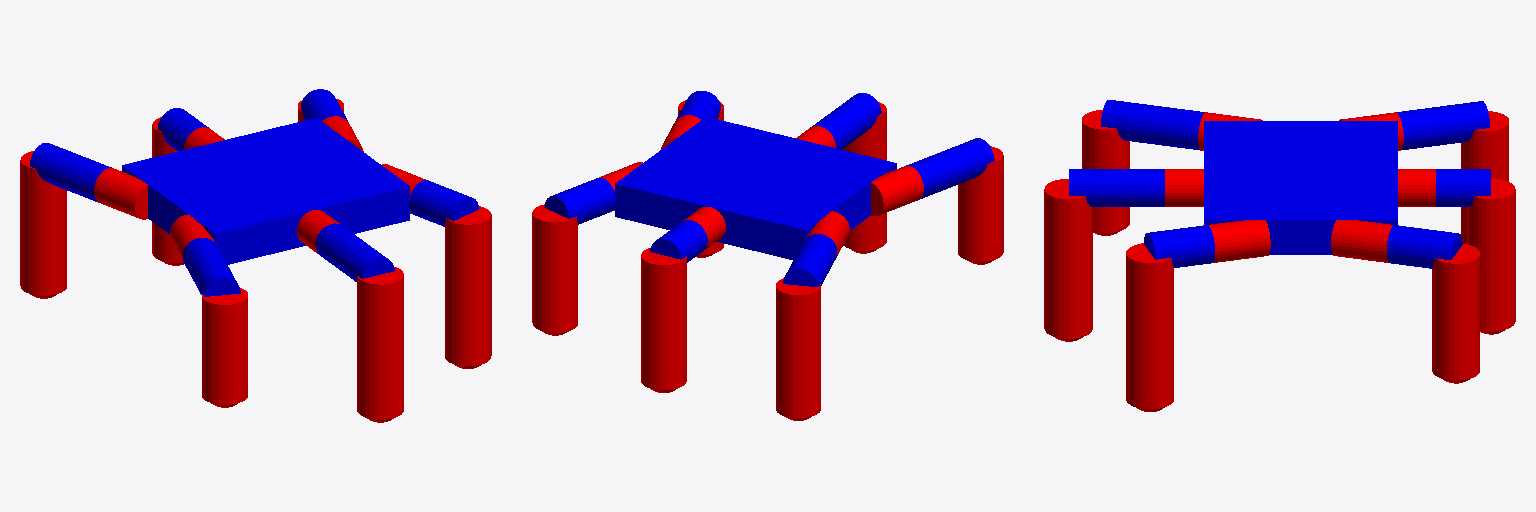
--- Render facts (derived) ---
The picture shows the robot from 3 angles, left to right: view 1: azimuth 30°, elevation 25°; view 2: azimuth 150°, elevation 25°; view 3: azimuth 270°, elevation 25°; orthographic projection.
Robot: pexod — 19 links, 18 joints (18 revolute); root link base_link; default pose: every joint at zero.
Visible links, largest first — view 1: base_link, leg_3_3, leg_4_3, leg_0_3, leg_5_3, leg_4_2, leg_0_2, leg_5_2, leg_3_2, leg_0_1, leg_1_3, leg_1_2 (+3 smaller); view 2: base_link, leg_1_3, leg_0_3, leg_2_3, leg_5_3, leg_5_2, leg_4_3, leg_2_2, leg_4_2, leg_0_2, leg_5_1, leg_1_2 (+3 smaller); view 3: base_link, leg_3_3, leg_4_3, leg_2_3, leg_1_3, leg_5_2, leg_4_2, leg_0_2, leg_5_3, leg_0_3, leg_2_2, leg_3_2 (+5 smaller).
Boxes of the visible links, <box> form: base_link: <box>122,118,409,264</box>; leg_3_3: <box>445,206,491,368</box>; leg_4_3: <box>357,267,403,422</box>; leg_0_3: <box>20,151,66,298</box>; leg_5_3: <box>202,288,247,407</box>; leg_4_2: <box>315,223,394,281</box>; leg_0_2: <box>30,143,111,202</box>; leg_5_2: <box>183,238,240,296</box>; leg_3_2: <box>409,180,478,226</box>; leg_0_1: <box>94,168,147,219</box>; leg_1_3: <box>152,117,183,265</box>; leg_1_2: <box>158,108,208,150</box>; base_link: <box>615,117,896,259</box>; leg_1_3: <box>641,248,686,392</box>; leg_0_3: <box>776,278,820,420</box>; leg_2_3: <box>532,204,577,335</box>; leg_5_3: <box>958,146,1003,264</box>; leg_5_2: <box>906,138,994,199</box>; leg_4_3: <box>842,102,886,253</box>; leg_2_2: <box>544,178,615,224</box>; leg_4_2: <box>810,93,881,149</box>; leg_0_2: <box>783,234,836,286</box>; leg_5_1: <box>871,166,923,215</box>; leg_1_2: <box>650,220,707,262</box>; base_link: <box>1204,121,1397,254</box>; leg_3_3: <box>1126,243,1173,411</box>; leg_4_3: <box>1044,179,1092,341</box>; leg_2_3: <box>1432,244,1479,383</box>; leg_1_3: <box>1467,179,1515,334</box>; leg_5_2: <box>1101,100,1204,150</box>; leg_4_2: <box>1069,169,1164,206</box>; leg_0_2: <box>1396,101,1489,149</box>; leg_5_3: <box>1082,110,1129,235</box>; leg_0_3: <box>1461,111,1508,243</box>; leg_2_2: <box>1387,225,1462,268</box>; leg_3_2: <box>1144,225,1214,267</box>.
Size in the robot's own frame: 0.377 by 0.4866 by 0.1992 metres.
Geometry: primitives only (box / cylinder / sphere), no mesh files.

The robot description file, URDF, robot "pexod":
<?xml version="1.0" ?>
<!-- =================================================================================== -->
<!-- |    This document was autogenerated by xacro from pexod.xacro                    | -->
<!-- |    EDITING THIS FILE BY HAND IS NOT RECOMMENDED                                 | -->
<!-- =================================================================================== -->
<robot name="pexod" xmlns:xacro="http://www.ros.org/wiki/xacro">
  <!-- <xacro:include filename="$(find pexod_description)/urdf/pexod_control.xacro" /> -->
  <!-- MATERIALS -->
  <material name="Blue">
    <color rgba="0 0 1 1"/>
  </material>
  <material name="Red">
    <color rgba="1 0 0 1"/>
  </material>
  <material name="Green">
    <color rgba="0 1 0 1"/>
  </material>
  <material name="Yellow">
    <color rgba="1 1 0 1"/>
  </material>
  <material name="LightGrey">
    <color rgba="0.6 0.6 0.6 1.0"/>
  </material>
  <!-- END OF MATERIALS -->
  <!-- XACRO MACROS FOR VISUALS AND COLLISIONS -->
  <!-- END OF XACRO MACROS -->
  <!-- TORSO -->
  <link name="base_link">
    <visual>
      <origin rpy="0 0 0" xyz="0 0 0"/>
      <geometry>
        <box size="0.24 0.2 0.04"/>
      </geometry>
      <material name="Blue"/>
    </visual>
    <collision>
      <origin rpy="0 0 0" xyz="0 0 0"/>
      <geometry>
        <box size="0.24 0.2 0.04"/>
      </geometry>
    </collision>
    <inertial>
      <!-- CENTER OF MASS -->
      <origin rpy="0 0 0" xyz="0 0 0"/>
      <mass value="1.031"/>
      <!-- box inertia: 1/12*m(y^2+z^2), ... -->
      <inertia ixx="0.00357413333333" ixy="0" ixz="0" iyy="0.00508626666667" iyz="0" izz="0.00838546666667"/>
    </inertial>
  </link>
  <!-- XACRO MACRO FOR LEGS LINKS/JOINTS -->
  <!-- END OF LEG LINKS/JOINTS -->
  <joint name="body_leg_2" type="revolute">
    <parent link="base_link"/>
    <child link="leg_2_1"/>
    <limit effort="30.0" lower="-1.57079632679" upper="1.57079632679" velocity="7.0"/>
    <origin rpy="0 0 -0.3" xyz="0.11 0.04 0"/>
    <!-- <xacro:if value="${index == 5 or index == 4 or index == 3}">
                <axis xyz="0 0 1"/>
            </xacro:if>
            <xacro:if value="${index == 2 or index == 1 or index == 0}"> -->
    <axis xyz="0 0 1"/>
    <!-- </xacro:if> -->
    <dynamics damping="0.0"/>
  </joint>
  <link name="leg_2_1">
    <visual>
      <origin rpy="1.57079632679 0 0" xyz="0.01 0.03 0"/>
      <geometry>
        <cylinder length="0.06" radius="0.02"/>
      </geometry>
      <material name="Red"/>
    </visual>
    <collision>
      <origin rpy="1.57079632679 0 0" xyz="0.01 0.03 0"/>
      <geometry>
        <box size="0.02 0.02 0.06"/>
      </geometry>
    </collision>
    <inertial>
      <!-- CENTER OF MASS -->
      <origin rpy="1.57079632679 0 0" xyz="0.01 0.03 0"/>
      <mass value="0.02"/>
      <!-- box inertia: 1/12*m(y^2+z^2), ... -->
      <inertia ixx="6.66666666667e-06" ixy="0" ixz="0" iyy="6.66666666667e-06" iyz="0" izz="1.33333333333e-06"/>
    </inertial>
  </link>
  <joint name="leg_2_1_2" type="revolute">
    <parent link="leg_2_1"/>
    <child link="leg_2_2"/>
    <limit effort="30.0" lower="-0.78539816339" upper="0.78539816339" velocity="7.0"/>
    <origin rpy="0 0 0" xyz="0 0.06 0"/>
    <axis xyz="1 0 0"/>
    <dynamics damping="0.0"/>
  </joint>
  <link name="leg_2_2">
    <visual>
      <origin rpy="1.57079632679 0 0" xyz="0.01 0.0349362957062 0"/>
      <geometry>
        <cylinder length="0.0698725914124" radius="0.02"/>
      </geometry>
      <material name="Blue"/>
    </visual>
    <collision>
      <origin rpy="1.57079632679 0 0" xyz="0.01 0.0349362957062 0"/>
      <geometry>
        <box size="0.02 0.02 0.0698725914124"/>
      </geometry>
    </collision>
    <inertial>
      <!-- CENTER OF MASS -->
      <origin rpy="1.57079632679 0 0" xyz="0.01 0.0349362957062 0"/>
      <mass value="0.184"/>
      <!-- box inertia: 1/12*m(y^2+z^2), ... -->
      <inertia ixx="8.09934118038e-05" ixy="0" ixz="0" iyy="8.09934118038e-05" iyz="0" izz="1.22666666667e-05"/>
    </inertial>
  </link>
  <joint name="leg_2_2_3" type="revolute">
    <parent link="leg_2_2"/>
    <child link="leg_2_3"/>
    <limit effort="30.0" lower="-0.78539816339" upper="0.78539816339" velocity="7.0"/>
    <origin rpy="-1.57079632679 0 0" xyz="0 0.0698725914124 0"/>
    <axis xyz="-1 0 0"/>
    <dynamics damping="0.0"/>
  </joint>
  <link name="leg_2_3">
    <visual>
      <origin rpy="1.57079632679 0 0" xyz="0.0125 0.0666013814755 0"/>
      <geometry>
        <cylinder length="0.133202762951" radius="0.025"/>
      </geometry>
      <material name="Red"/>
    </visual>
    <visual>
      <origin rpy="1.57079632679 0 0" xyz="0.0125 0.120702762951 0"/>
      <geometry>
        <sphere radius="0.025"/>
      </geometry>
      <material name="Red"/>
    </visual>
    <collision>
      <origin rpy="1.57079632679 0 0" xyz="0.0125 0.0666013814755 0"/>
      <geometry>
        <box size="0.025 0.025 0.133202762951"/>
      </geometry>
    </collision>
    <collision>
      <origin rpy="1.57079632679 0 0" xyz="0.0125 0.120702762951 0"/>
      <geometry>
        <sphere radius="0.025"/>
      </geometry>
      <material name="Red"/>
    </collision>
    <inertial>
      <!-- CENTER OF MASS -->
      <origin rpy="1.57079632679 0 0" xyz="0.0125 0.0666013814755 0"/>
      <mass value="0.04"/>
      <!-- box inertia: 1/12*m(y^2+z^2), ... -->
      <inertia ixx="6.12265868593e-05" ixy="0" ixz="0" iyy="6.12265868593e-05" iyz="0" izz="4.16666666667e-06"/>
    </inertial>
  </link>
  <joint name="body_leg_3" type="revolute">
    <parent link="base_link"/>
    <child link="leg_3_1"/>
    <limit effort="30.0" lower="-1.57079632679" upper="1.57079632679" velocity="7.0"/>
    <origin rpy="0 0 0.3" xyz="0.11 -0.04 0"/>
    <!-- <xacro:if value="${index == 5 or index == 4 or index == 3}">
                <axis xyz="0 0 1"/>
            </xacro:if>
            <xacro:if value="${index == 2 or index == 1 or index == 0}"> -->
    <axis xyz="0 0 1"/>
    <!-- </xacro:if> -->
    <dynamics damping="0.0"/>
  </joint>
  <link name="leg_3_1">
    <visual>
      <origin rpy="1.57079632679 0 0" xyz="0.01 -0.03 0"/>
      <geometry>
        <cylinder length="0.06" radius="0.02"/>
      </geometry>
      <material name="Red"/>
    </visual>
    <collision>
      <origin rpy="1.57079632679 0 0" xyz="0.01 -0.03 0"/>
      <geometry>
        <box size="0.02 0.02 0.06"/>
      </geometry>
    </collision>
    <inertial>
      <!-- CENTER OF MASS -->
      <origin rpy="1.57079632679 0 0" xyz="0.01 -0.03 0"/>
      <mass value="0.02"/>
      <!-- box inertia: 1/12*m(y^2+z^2), ... -->
      <inertia ixx="6.66666666667e-06" ixy="0" ixz="0" iyy="6.66666666667e-06" iyz="0" izz="1.33333333333e-06"/>
    </inertial>
  </link>
  <joint name="leg_3_1_2" type="revolute">
    <parent link="leg_3_1"/>
    <child link="leg_3_2"/>
    <limit effort="30.0" lower="-0.78539816339" upper="0.78539816339" velocity="7.0"/>
    <origin rpy="0 0 0" xyz="0 -0.06 0"/>
    <axis xyz="-1 0 0"/>
    <dynamics damping="0.0"/>
  </joint>
  <link name="leg_3_2">
    <visual>
      <origin rpy="1.57079632679 0 0" xyz="0.01 -0.0324479288201 0"/>
      <geometry>
        <cylinder length="0.0648958576402" radius="0.02"/>
      </geometry>
      <material name="Blue"/>
    </visual>
    <collision>
      <origin rpy="1.57079632679 0 0" xyz="0.01 -0.0324479288201 0"/>
      <geometry>
        <box size="0.02 0.02 0.0648958576402"/>
      </geometry>
    </collision>
    <inertial>
      <!-- CENTER OF MASS -->
      <origin rpy="1.57079632679 0 0" xyz="0.01 -0.0324479288201 0"/>
      <mass value="0.184"/>
      <!-- box inertia: 1/12*m(y^2+z^2), ... -->
      <inertia ixx="7.07092425291e-05" ixy="0" ixz="0" iyy="7.07092425291e-05" iyz="0" izz="1.22666666667e-05"/>
    </inertial>
  </link>
  <joint name="leg_3_2_3" type="revolute">
    <parent link="leg_3_2"/>
    <child link="leg_3_3"/>
    <limit effort="30.0" lower="-0.78539816339" upper="0.78539816339" velocity="7.0"/>
    <origin rpy="1.57079632679 0 0" xyz="0 -0.0648958576402 0"/>
    <axis xyz="1 0 0"/>
    <dynamics damping="0.0"/>
  </joint>
  <link name="leg_3_3">
    <visual>
      <origin rpy="1.57079632679 0 0" xyz="0.0125 -0.0833662149685 0"/>
      <geometry>
        <cylinder length="0.166732429937" radius="0.025"/>
      </geometry>
      <material name="Red"/>
    </visual>
    <visual>
      <origin rpy="1.57079632679 0 0" xyz="0.0125 -0.154232429937 0"/>
      <geometry>
        <sphere radius="0.025"/>
      </geometry>
      <material name="Red"/>
    </visual>
    <collision>
      <origin rpy="1.57079632679 0 0" xyz="0.0125 -0.0833662149685 0"/>
      <geometry>
        <box size="0.025 0.025 0.166732429937"/>
      </geometry>
    </collision>
    <collision>
      <origin rpy="1.57079632679 0 0" xyz="0.0125 -0.154232429937 0"/>
      <geometry>
        <sphere radius="0.025"/>
      </geometry>
      <material name="Red"/>
    </collision>
    <inertial>
      <!-- CENTER OF MASS -->
      <origin rpy="1.57079632679 0 0" xyz="0.0125 -0.0833662149685 0"/>
      <mass value="0.04"/>
      <!-- box inertia: 1/12*m(y^2+z^2), ... -->
      <inertia ixx="9.47490106423e-05" ixy="0" ixz="0" iyy="9.47490106423e-05" iyz="0" izz="4.16666666667e-06"/>
    </inertial>
  </link>
  <joint name="body_leg_0" type="revolute">
    <parent link="base_link"/>
    <child link="leg_0_1"/>
    <limit effort="30.0" lower="-1.57079632679" upper="1.57079632679" velocity="7.0"/>
    <origin rpy="0 0 0.3" xyz="-0.13 0.04 0"/>
    <!-- <xacro:if value="${index == 5 or index == 4 or index == 3}">
                <axis xyz="0 0 1"/>
            </xacro:if>
            <xacro:if value="${index == 2 or index == 1 or index == 0}"> -->
    <axis xyz="0 0 1"/>
    <!-- </xacro:if> -->
    <dynamics damping="0.0"/>
  </joint>
  <link name="leg_0_1">
    <visual>
      <origin rpy="1.57079632679 0 0" xyz="0.01 0.03 0"/>
      <geometry>
        <cylinder length="0.06" radius="0.02"/>
      </geometry>
      <material name="Red"/>
    </visual>
    <collision>
      <origin rpy="1.57079632679 0 0" xyz="0.01 0.03 0"/>
      <geometry>
        <box size="0.02 0.02 0.06"/>
      </geometry>
    </collision>
    <inertial>
      <!-- CENTER OF MASS -->
      <origin rpy="1.57079632679 0 0" xyz="0.01 0.03 0"/>
      <mass value="0.02"/>
      <!-- box inertia: 1/12*m(y^2+z^2), ... -->
      <inertia ixx="6.66666666667e-06" ixy="0" ixz="0" iyy="6.66666666667e-06" iyz="0" izz="1.33333333333e-06"/>
    </inertial>
  </link>
  <joint name="leg_0_1_2" type="revolute">
    <parent link="leg_0_1"/>
    <child link="leg_0_2"/>
    <limit effort="30.0" lower="-0.78539816339" upper="0.78539816339" velocity="7.0"/>
    <origin rpy="0 0 0" xyz="0 0.06 0"/>
    <axis xyz="1 0 0"/>
    <dynamics damping="0.0"/>
  </joint>
  <link name="leg_0_2">
    <visual>
      <origin rpy="1.57079632679 0 0" xyz="0.01 0.0467851409601 0"/>
      <geometry>
        <cylinder length="0.0935702819203" radius="0.02"/>
      </geometry>
      <material name="Blue"/>
    </visual>
    <collision>
      <origin rpy="1.57079632679 0 0" xyz="0.01 0.0467851409601 0"/>
      <geometry>
        <box size="0.02 0.02 0.0935702819203"/>
      </geometry>
    </collision>
    <inertial>
      <!-- CENTER OF MASS -->
      <origin rpy="1.57079632679 0 0" xyz="0.01 0.0467851409601 0"/>
      <mass value="0.184"/>
      <!-- box inertia: 1/12*m(y^2+z^2), ... -->
      <inertia ixx="0.000140382764099" ixy="0" ixz="0" iyy="0.000140382764099" iyz="0" izz="1.22666666667e-05"/>
    </inertial>
  </link>
  <joint name="leg_0_2_3" type="revolute">
    <parent link="leg_0_2"/>
    <child link="leg_0_3"/>
    <limit effort="30.0" lower="-0.78539816339" upper="0.78539816339" velocity="7.0"/>
    <origin rpy="-1.57079632679 0 0" xyz="0 0.0935702819203 0"/>
    <axis xyz="-1 0 0"/>
    <dynamics damping="0.0"/>
  </joint>
  <link name="leg_0_3">
    <visual>
      <origin rpy="1.57079632679 0 0" xyz="0.0125 0.074228206059 0"/>
      <geometry>
        <cylinder length="0.148456412118" radius="0.025"/>
      </geometry>
      <material name="Red"/>
    </visual>
    <visual>
      <origin rpy="1.57079632679 0 0" xyz="0.0125 0.135956412118 0"/>
      <geometry>
        <sphere radius="0.025"/>
      </geometry>
      <material name="Red"/>
    </visual>
    <collision>
      <origin rpy="1.57079632679 0 0" xyz="0.0125 0.074228206059 0"/>
      <geometry>
        <box size="0.025 0.025 0.148456412118"/>
      </geometry>
    </collision>
    <collision>
      <origin rpy="1.57079632679 0 0" xyz="0.0125 0.135956412118 0"/>
      <geometry>
        <sphere radius="0.025"/>
      </geometry>
      <material name="Red"/>
    </collision>
    <inertial>
      <!-- CENTER OF MASS -->
      <origin rpy="1.57079632679 0 0" xyz="0.0125 0.074228206059 0"/>
      <mass value="0.04"/>
      <!-- box inertia: 1/12*m(y^2+z^2), ... -->
      <inertia ixx="7.55476876632e-05" ixy="0" ixz="0" iyy="7.55476876632e-05" iyz="0" izz="4.16666666667e-06"/>
    </inertial>
  </link>
  <joint name="body_leg_5" type="revolute">
    <parent link="base_link"/>
    <child link="leg_5_1"/>
    <limit effort="30.0" lower="-1.57079632679" upper="1.57079632679" velocity="7.0"/>
    <origin rpy="0 0 -0.3" xyz="-0.13 -0.04 0"/>
    <!-- <xacro:if value="${index == 5 or index == 4 or index == 3}">
                <axis xyz="0 0 1"/>
            </xacro:if>
            <xacro:if value="${index == 2 or index == 1 or index == 0}"> -->
    <axis xyz="0 0 1"/>
    <!-- </xacro:if> -->
    <dynamics damping="0.0"/>
  </joint>
  <link name="leg_5_1">
    <visual>
      <origin rpy="1.57079632679 0 0" xyz="0.01 -0.03 0"/>
      <geometry>
        <cylinder length="0.06" radius="0.02"/>
      </geometry>
      <material name="Red"/>
    </visual>
    <collision>
      <origin rpy="1.57079632679 0 0" xyz="0.01 -0.03 0"/>
      <geometry>
        <box size="0.02 0.02 0.06"/>
      </geometry>
    </collision>
    <inertial>
      <!-- CENTER OF MASS -->
      <origin rpy="1.57079632679 0 0" xyz="0.01 -0.03 0"/>
      <mass value="0.02"/>
      <!-- box inertia: 1/12*m(y^2+z^2), ... -->
      <inertia ixx="6.66666666667e-06" ixy="0" ixz="0" iyy="6.66666666667e-06" iyz="0" izz="1.33333333333e-06"/>
    </inertial>
  </link>
  <joint name="leg_5_1_2" type="revolute">
    <parent link="leg_5_1"/>
    <child link="leg_5_2"/>
    <limit effort="30.0" lower="-0.78539816339" upper="0.78539816339" velocity="7.0"/>
    <origin rpy="0 0 0" xyz="0 -0.06 0"/>
    <axis xyz="-1 0 0"/>
    <dynamics damping="0.0"/>
  </joint>
  <link name="leg_5_2">
    <visual>
      <origin rpy="1.57079632679 0 0" xyz="0.01 -0.0525939202945 0"/>
      <geometry>
        <cylinder length="0.105187840589" radius="0.02"/>
      </geometry>
      <material name="Blue"/>
    </visual>
    <collision>
      <origin rpy="1.57079632679 0 0" xyz="0.01 -0.0525939202945 0"/>
      <geometry>
        <box size="0.02 0.02 0.105187840589"/>
      </geometry>
    </collision>
    <inertial>
      <!-- CENTER OF MASS -->
      <origin rpy="1.57079632679 0 0" xyz="0.01 -0.0525939202945 0"/>
      <mass value="0.184"/>
      <!-- box inertia: 1/12*m(y^2+z^2), ... -->
      <inertia ixx="0.000175788721053" ixy="0" ixz="0" iyy="0.000175788721053" iyz="0" izz="1.22666666667e-05"/>
    </inertial>
  </link>
  <joint name="leg_5_2_3" type="revolute">
    <parent link="leg_5_2"/>
    <child link="leg_5_3"/>
    <limit effort="30.0" lower="-0.78539816339" upper="0.78539816339" velocity="7.0"/>
    <origin rpy="1.57079632679 0 0" xyz="0 -0.105187840589 0"/>
    <axis xyz="1 0 0"/>
    <dynamics damping="0.0"/>
  </joint>
  <link name="leg_5_3">
    <visual>
      <origin rpy="1.57079632679 0 0" xyz="0.0125 -0.0587903979395 0"/>
      <geometry>
        <cylinder length="0.117580795879" radius="0.025"/>
      </geometry>
      <material name="Red"/>
    </visual>
    <visual>
      <origin rpy="1.57079632679 0 0" xyz="0.0125 -0.105080795879 0"/>
      <geometry>
        <sphere radius="0.025"/>
      </geometry>
      <material name="Red"/>
    </visual>
    <collision>
      <origin rpy="1.57079632679 0 0" xyz="0.0125 -0.0587903979395 0"/>
      <geometry>
        <box size="0.025 0.025 0.117580795879"/>
      </geometry>
    </collision>
    <collision>
      <origin rpy="1.57079632679 0 0" xyz="0.0125 -0.105080795879 0"/>
      <geometry>
        <sphere radius="0.025"/>
      </geometry>
      <material name="Red"/>
    </collision>
    <inertial>
      <!-- CENTER OF MASS -->
      <origin rpy="1.57079632679 0 0" xyz="0.0125 -0.0587903979395 0"/>
      <mass value="0.04"/>
      <!-- box inertia: 1/12*m(y^2+z^2), ... -->
      <inertia ixx="4.81674785318e-05" ixy="0" ixz="0" iyy="4.81674785318e-05" iyz="0" izz="4.16666666667e-06"/>
    </inertial>
  </link>
  <joint name="body_leg_1" type="revolute">
    <parent link="base_link"/>
    <child link="leg_1_1"/>
    <limit effort="30.0" lower="-1.57079632679" upper="1.57079632679" velocity="7.0"/>
    <origin rpy="0 0 0" xyz="-0.01 0.08 0"/>
    <!-- <xacro:if value="${index == 5 or index == 4 or index == 3}">
                <axis xyz="0 0 1"/>
            </xacro:if>
            <xacro:if value="${index == 2 or index == 1 or index == 0}"> -->
    <axis xyz="0 0 1"/>
    <!-- </xacro:if> -->
    <dynamics damping="0.0"/>
  </joint>
  <link name="leg_1_1">
    <visual>
      <origin rpy="1.57079632679 0 0" xyz="0.01 0.03 0"/>
      <geometry>
        <cylinder length="0.06" radius="0.02"/>
      </geometry>
      <material name="Red"/>
    </visual>
    <collision>
      <origin rpy="1.57079632679 0 0" xyz="0.01 0.03 0"/>
      <geometry>
        <box size="0.02 0.02 0.06"/>
      </geometry>
    </collision>
    <inertial>
      <!-- CENTER OF MASS -->
      <origin rpy="1.57079632679 0 0" xyz="0.01 0.03 0"/>
      <mass value="0.02"/>
      <!-- box inertia: 1/12*m(y^2+z^2), ... -->
      <inertia ixx="6.66666666667e-06" ixy="0" ixz="0" iyy="6.66666666667e-06" iyz="0" izz="1.33333333333e-06"/>
    </inertial>
  </link>
  <joint name="leg_1_1_2" type="revolute">
    <parent link="leg_1_1"/>
    <child link="leg_1_2"/>
    <limit effort="30.0" lower="-0.78539816339" upper="0.78539816339" velocity="7.0"/>
    <origin rpy="0 0 0" xyz="0 0.06 0"/>
    <axis xyz="1 0 0"/>
    <dynamics damping="0.0"/>
  </joint>
  <link name="leg_1_2">
    <visual>
      <origin rpy="1.57079632679 0 0" xyz="0.01 0.0283318955518 0"/>
      <geometry>
        <cylinder length="0.0566637911037" radius="0.02"/>
      </geometry>
      <material name="Blue"/>
    </visual>
    <collision>
      <origin rpy="1.57079632679 0 0" xyz="0.01 0.0283318955518 0"/>
      <geometry>
        <box size="0.02 0.02 0.0566637911037"/>
      </geometry>
    </collision>
    <inertial>
      <!-- CENTER OF MASS -->
      <origin rpy="1.57079632679 0 0" xyz="0.01 0.0283318955518 0"/>
      <mass value="0.184"/>
      <!-- box inertia: 1/12*m(y^2+z^2), ... -->
      <inertia ixx="5.53653734077e-05" ixy="0" ixz="0" iyy="5.53653734077e-05" iyz="0" izz="1.22666666667e-05"/>
    </inertial>
  </link>
  <joint name="leg_1_2_3" type="revolute">
    <parent link="leg_1_2"/>
    <child link="leg_1_3"/>
    <limit effort="30.0" lower="-0.78539816339" upper="0.78539816339" velocity="7.0"/>
    <origin rpy="-1.57079632679 0 0" xyz="0 0.0566637911037 0"/>
    <axis xyz="-1 0 0"/>
    <dynamics damping="0.0"/>
  </joint>
  <link name="leg_1_3">
    <visual>
      <origin rpy="1.57079632679 0 0" xyz="0.0125 0.075491196051 0"/>
      <geometry>
        <cylinder length="0.150982392102" radius="0.025"/>
      </geometry>
      <material name="Red"/>
    </visual>
    <visual>
      <origin rpy="1.57079632679 0 0" xyz="0.0125 0.138482392102 0"/>
      <geometry>
        <sphere radius="0.025"/>
      </geometry>
      <material name="Red"/>
    </visual>
    <collision>
      <origin rpy="1.57079632679 0 0" xyz="0.0125 0.075491196051 0"/>
      <geometry>
        <box size="0.025 0.025 0.150982392102"/>
      </geometry>
    </collision>
    <collision>
      <origin rpy="1.57079632679 0 0" xyz="0.0125 0.138482392102 0"/>
      <geometry>
        <sphere radius="0.025"/>
      </geometry>
      <material name="Red"/>
    </collision>
    <inertial>
      <!-- CENTER OF MASS -->
      <origin rpy="1.57079632679 0 0" xyz="0.0125 0.075491196051 0"/>
      <mass value="0.04"/>
      <!-- box inertia: 1/12*m(y^2+z^2), ... -->
      <inertia ixx="7.80689424161e-05" ixy="0" ixz="0" iyy="7.80689424161e-05" iyz="0" izz="4.16666666667e-06"/>
    </inertial>
  </link>
  <joint name="body_leg_4" type="revolute">
    <parent link="base_link"/>
    <child link="leg_4_1"/>
    <limit effort="30.0" lower="-1.57079632679" upper="1.57079632679" velocity="7.0"/>
    <origin rpy="0 0 0" xyz="-0.01 -0.08 0"/>
    <!-- <xacro:if value="${index == 5 or index == 4 or index == 3}">
                <axis xyz="0 0 1"/>
            </xacro:if>
            <xacro:if value="${index == 2 or index == 1 or index == 0}"> -->
    <axis xyz="0 0 1"/>
    <!-- </xacro:if> -->
    <dynamics damping="0.0"/>
  </joint>
  <link name="leg_4_1">
    <visual>
      <origin rpy="1.57079632679 0 0" xyz="0.01 -0.03 0"/>
      <geometry>
        <cylinder length="0.06" radius="0.02"/>
      </geometry>
      <material name="Red"/>
    </visual>
    <collision>
      <origin rpy="1.57079632679 0 0" xyz="0.01 -0.03 0"/>
      <geometry>
        <box size="0.02 0.02 0.06"/>
      </geometry>
    </collision>
    <inertial>
      <!-- CENTER OF MASS -->
      <origin rpy="1.57079632679 0 0" xyz="0.01 -0.03 0"/>
      <mass value="0.02"/>
      <!-- box inertia: 1/12*m(y^2+z^2), ... -->
      <inertia ixx="6.66666666667e-06" ixy="0" ixz="0" iyy="6.66666666667e-06" iyz="0" izz="1.33333333333e-06"/>
    </inertial>
  </link>
  <joint name="leg_4_1_2" type="revolute">
    <parent link="leg_4_1"/>
    <child link="leg_4_2"/>
    <limit effort="30.0" lower="-0.78539816339" upper="0.78539816339" velocity="7.0"/>
    <origin rpy="0 0 0" xyz="0 -0.06 0"/>
    <axis xyz="-1 0 0"/>
    <dynamics damping="0.0"/>
  </joint>
  <link name="leg_4_2">
    <visual>
      <origin rpy="1.57079632679 0 0" xyz="0.01 -0.049947081981 0"/>
      <geometry>
        <cylinder length="0.099894163962" radius="0.02"/>
      </geometry>
      <material name="Blue"/>
    </visual>
    <collision>
      <origin rpy="1.57079632679 0 0" xyz="0.01 -0.049947081981 0"/>
      <geometry>
        <box size="0.02 0.02 0.099894163962"/>
      </geometry>
    </collision>
    <inertial>
      <!-- CENTER OF MASS -->
      <origin rpy="1.57079632679 0 0" xyz="0.01 -0.049947081981 0"/>
      <mass value="0.184"/>
      <!-- box inertia: 1/12*m(y^2+z^2), ... -->
      <inertia ixx="0.00015914227457" ixy="0" ixz="0" iyy="0.00015914227457" iyz="0" izz="1.22666666667e-05"/>
    </inertial>
  </link>
  <joint name="leg_4_2_3" type="revolute">
    <parent link="leg_4_2"/>
    <child link="leg_4_3"/>
    <limit effort="30.0" lower="-0.78539816339" upper="0.78539816339" velocity="7.0"/>
    <origin rpy="1.57079632679 0 0" xyz="0 -0.099894163962 0"/>
    <axis xyz="1 0 0"/>
    <dynamics damping="0.0"/>
  </joint>
  <link name="leg_4_3">
    <visual>
      <origin rpy="1.57079632679 0 0" xyz="0.0125 -0.079603249019 0"/>
      <geometry>
        <cylinder length="0.159206498038" radius="0.025"/>
      </geometry>
      <material name="Red"/>
    </visual>
    <visual>
      <origin rpy="1.57079632679 0 0" xyz="0.0125 -0.146706498038 0"/>
      <geometry>
        <sphere radius="0.025"/>
      </geometry>
      <material name="Red"/>
    </visual>
    <collision>
      <origin rpy="1.57079632679 0 0" xyz="0.0125 -0.079603249019 0"/>
      <geometry>
        <box size="0.025 0.025 0.159206498038"/>
      </geometry>
    </collision>
    <collision>
      <origin rpy="1.57079632679 0 0" xyz="0.0125 -0.146706498038 0"/>
      <geometry>
        <sphere radius="0.025"/>
      </geometry>
      <material name="Red"/>
    </collision>
    <inertial>
      <!-- CENTER OF MASS -->
      <origin rpy="1.57079632679 0 0" xyz="0.0125 -0.079603249019 0"/>
      <mass value="0.04"/>
      <!-- box inertia: 1/12*m(y^2+z^2), ... -->
      <inertia ixx="8.65723633917e-05" ixy="0" ixz="0" iyy="8.65723633917e-05" iyz="0" izz="4.16666666667e-06"/>
    </inertial>
  </link>
  <!-- END OF LEG LINKS/JOINTS -->
</robot>
